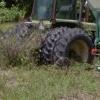Tractor: (39, 15, 100, 72)
